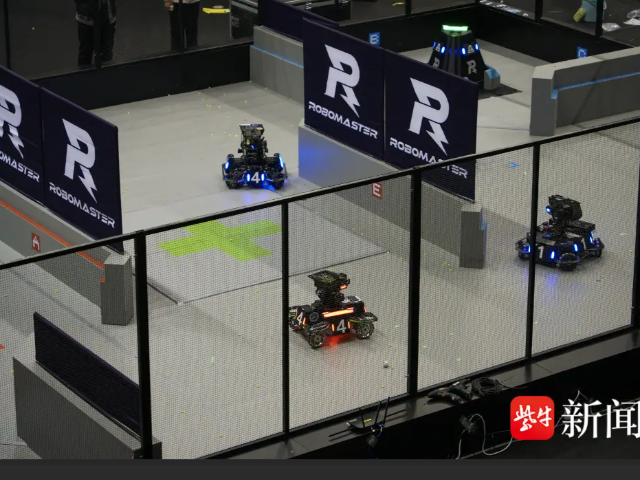rm: (519, 194, 607, 276), (290, 268, 378, 349), (224, 121, 285, 188)
